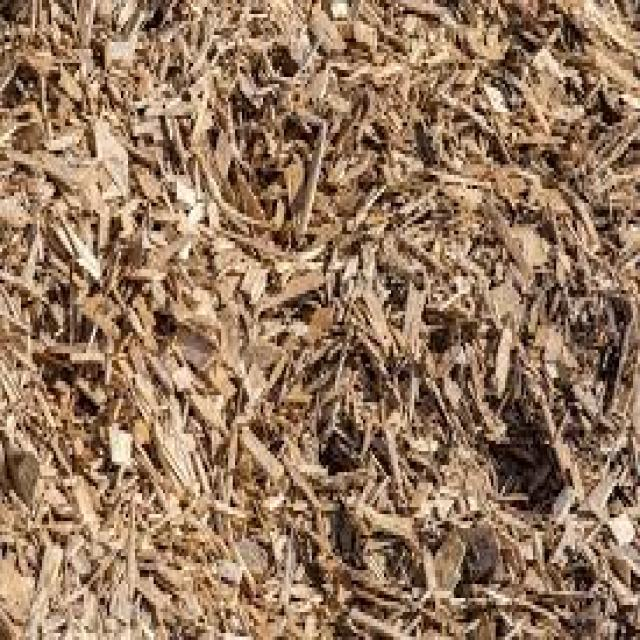green waste: (0, 7, 633, 640)
